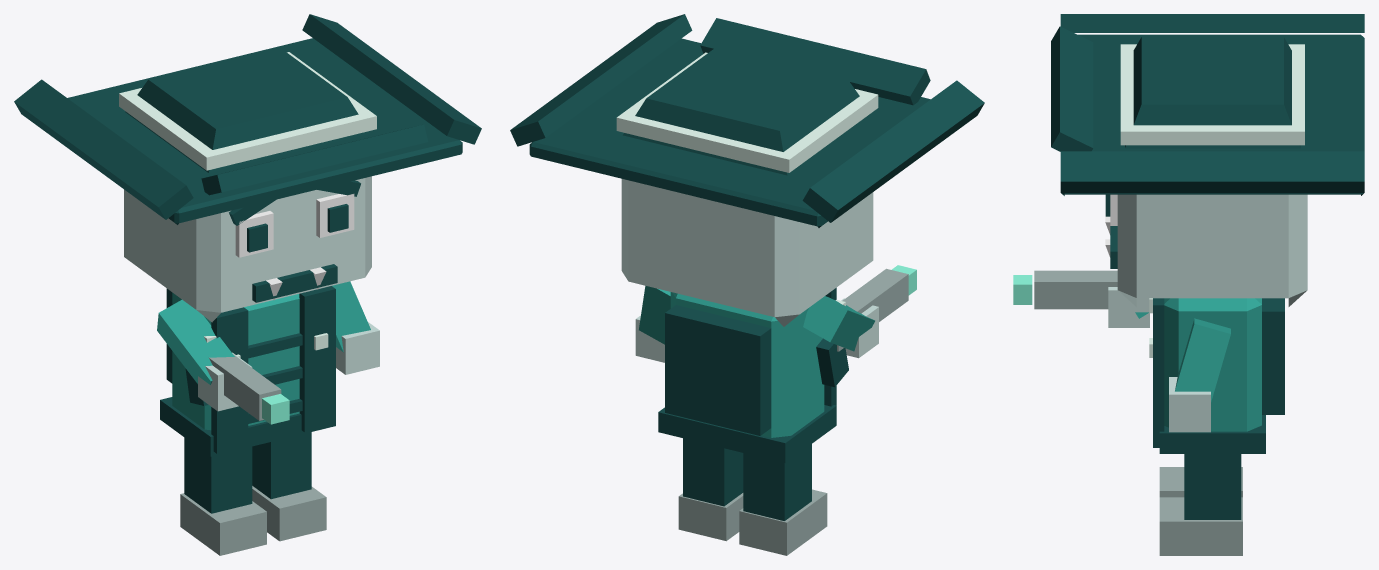
Rendered from gunner_r14.glb.
3 renders of one model, left to right at view 1: azimuth 30°, elevation 25°; view 2: azimuth 150°, elevation 25°; view 3: azimuth 270°, elevation 25°, orthographic. The views are drawn at different scales.
Visible parts, largest first — view 1: gunner_r14_mesh; view 2: gunner_r14_mesh; view 3: gunner_r14_mesh.
Part boxes in pixels (x1=…): gunner_r14_mesh: x1=14, y1=14, x2=481, y2=555; gunner_r14_mesh: x1=510, y1=14, x2=984, y2=555; gunner_r14_mesh: x1=1013, y1=14, x2=1364, y2=555.
Size of the model in its own units: 1.24 by 1.6 by 1.11.
Materials: 1 (1 with a texture image).
